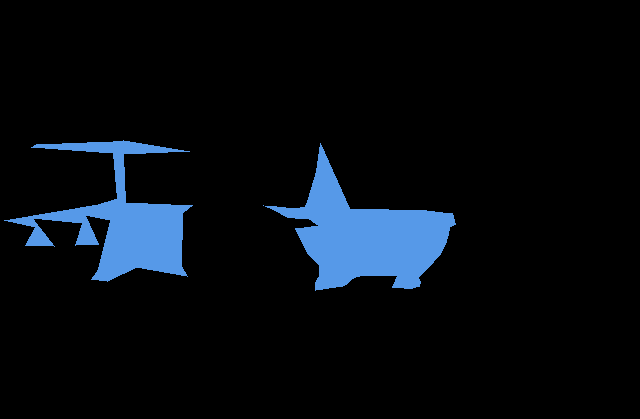Airplane: (263, 143, 456, 290), (4, 140, 192, 282)
